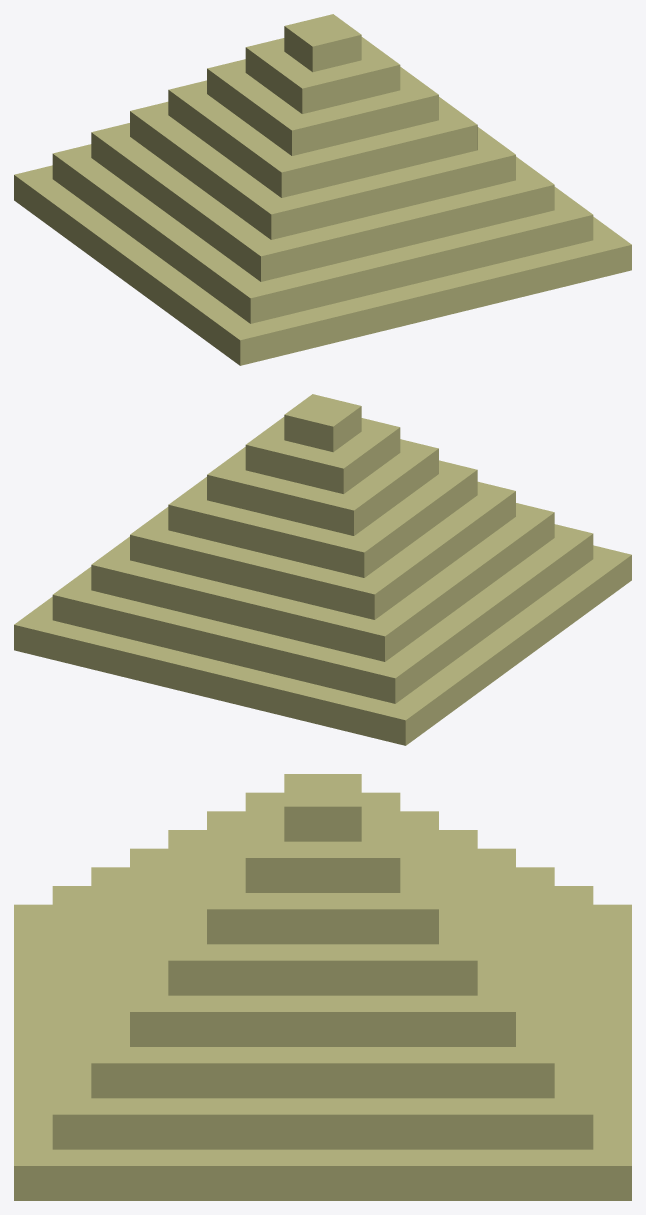
The model's file is piramit.fbx.
The picture shows the model from 3 angles, top to bottom: view 1: azimuth 30°, elevation 25°; view 2: azimuth 150°, elevation 25°; view 3: azimuth 270°, elevation 25°; orthographic projection. The views are drawn at different scales.
Parts seen in each view (by area): view 1: Cube.256, Cube.760, Cube.696, Cube, Cube.273, Cube.596, Cube.796, Cube.812, Cube.606, Cube.016, Cube.808, Cube.626 (+124 smaller); view 2: Cube.267, Cube.765, Cube.703, Cube.015, Cube.286, Cube.605, Cube.799, Cube.813, Cube.615, Cube.031, Cube.811, Cube.635 (+124 smaller); view 3: Cube.481, Cube.486, Cube.489, Cube.494, Cube.754, Cube.757, Cube.241, Cube.246, Cube.249, Cube.254, Cube.588, Cube.591 (+188 smaller).
Boxes of the visible parts, <box> form: Cube.256: <box>246,240,285,281</box>; Cube.760: <box>277,114,316,155</box>; Cube.696: <box>267,156,305,197</box>; Cube: <box>226,324,264,365</box>; Cube.273: <box>236,282,274,323</box>; Cube.596: <box>257,198,295,239</box>; Cube.796: <box>288,72,326,113</box>; Cube.812: <box>298,30,336,72</box>; Cube.606: <box>282,192,320,233</box>; Cube.016: <box>251,318,289,359</box>; Cube.808: <box>362,54,400,95</box>; Cube.626: <box>331,180,369,221</box>; Cube.267: <box>360,620,399,661</box>; Cube.765: <box>329,494,368,535</box>; Cube.703: <box>340,536,378,577</box>; Cube.015: <box>381,704,419,745</box>; Cube.286: <box>371,662,409,703</box>; Cube.605: <box>350,578,388,619</box>; Cube.799: <box>319,452,357,493</box>; Cube.813: <box>309,410,347,452</box>; Cube.615: <box>325,572,363,613</box>; Cube.031: <box>356,698,394,739</box>; Cube.811: <box>245,434,283,475</box>; Cube.635: <box>276,560,314,601</box>; Cube.481: <box>52,1098,91,1149</box>; Cube.486: <box>245,1098,284,1149</box>; Cube.489: <box>361,1098,400,1149</box>; Cube.494: <box>554,1098,593,1149</box>; Cube.754: <box>245,944,284,995</box>; Cube.757: <box>361,944,400,995</box>; Cube.241: <box>52,1149,91,1200</box>; Cube.246: <box>245,1149,284,1200</box>; Cube.249: <box>361,1149,400,1200</box>; Cube.254: <box>554,1149,593,1200</box>; Cube.588: <box>245,1047,284,1098</box>; Cube.591: <box>361,1047,400,1098</box>.
Size of the model in its own units: 3200 by 1600 by 3200.
